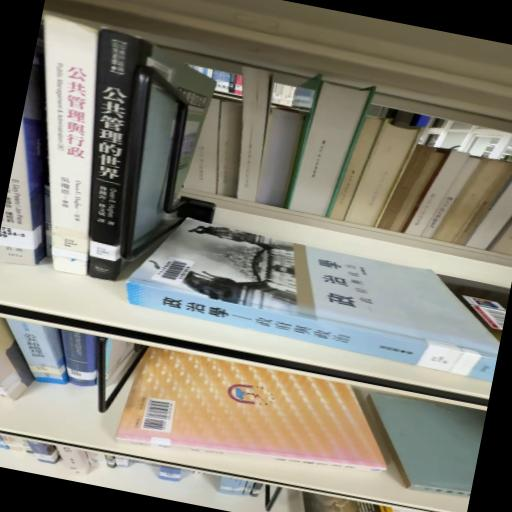flat: (127, 219, 500, 382), (116, 348, 387, 473)
